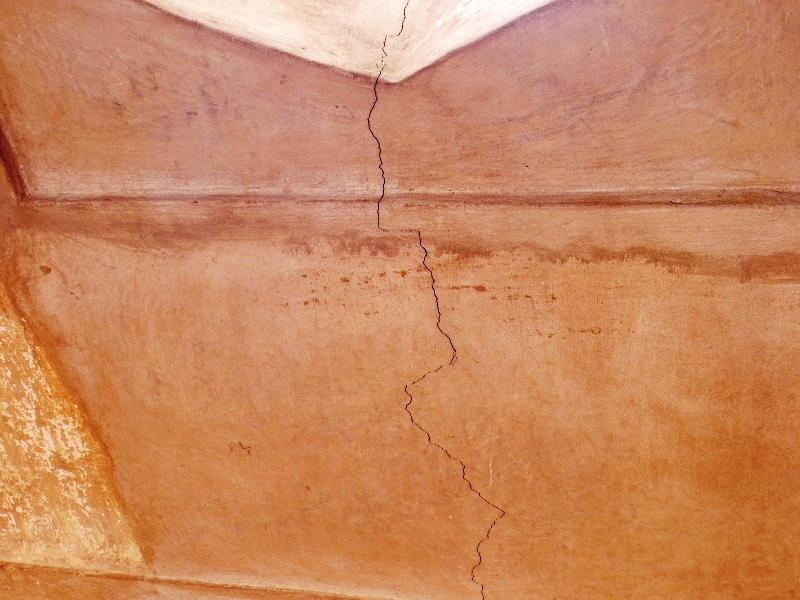Crack: (344, 5, 513, 594)
